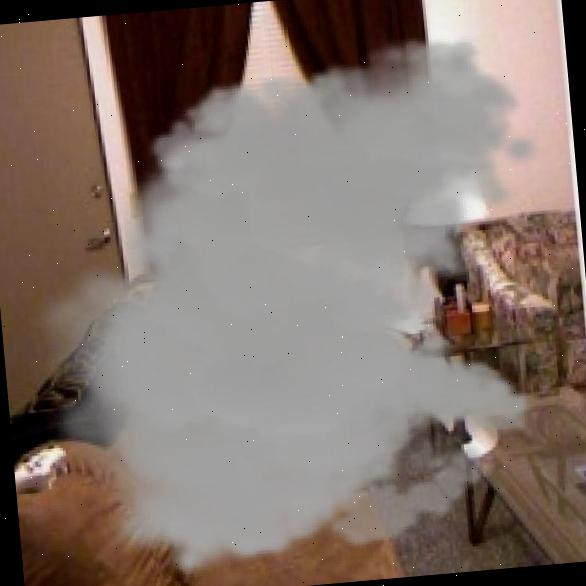smoke: (4, 25, 579, 586)
